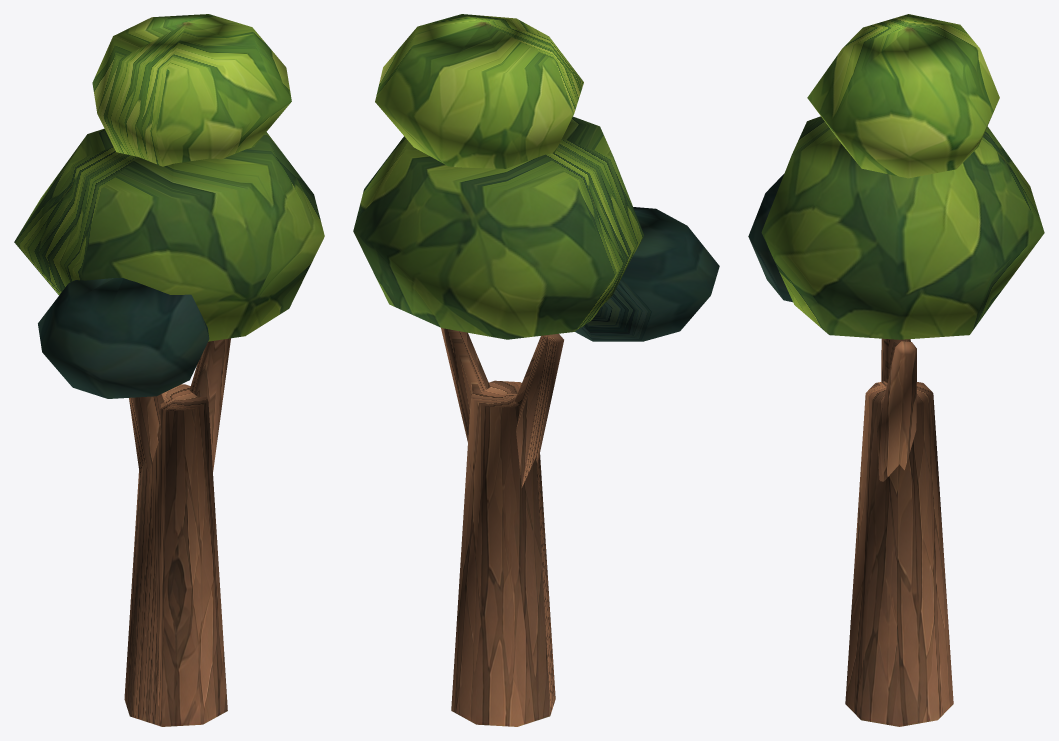
File: tree_maple_young.obj
3 renders of one model, left to right at view 1: azimuth 30°, elevation 25°; view 2: azimuth 150°, elevation 25°; view 3: azimuth 270°, elevation 25°, orthographic.
Visible parts, largest first — view 1: tree_maple_young; view 2: tree_maple_young; view 3: tree_maple_young.
Part boxes in pixels (left/top/right/bottom): tree_maple_young: left=14, top=14, right=324, bottom=726; tree_maple_young: left=353, top=14, right=719, bottom=726; tree_maple_young: left=748, top=14, right=1044, bottom=726.
Bounding box in the file's own units: 0.7964 × 1.67 × 0.6562.
Materials: 4 (4 with a texture image).
